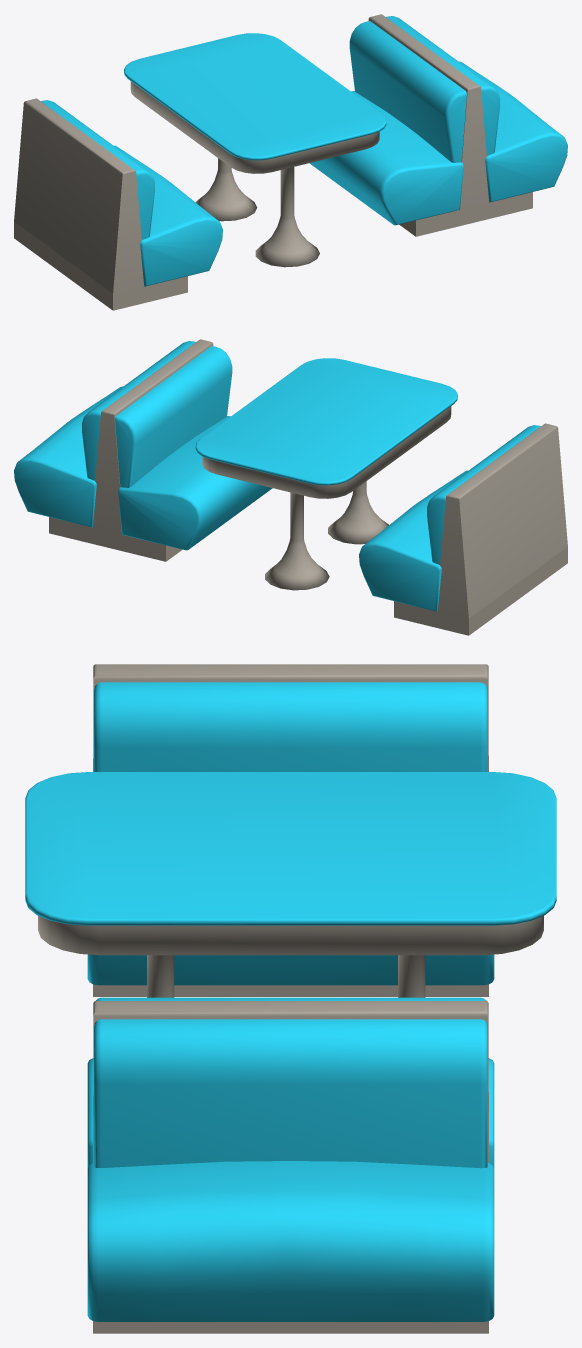
The model's file is table_set_1.fbx.
3 views of the same model, one above another, from view 1: azimuth 30°, elevation 25°; view 2: azimuth 150°, elevation 25°; view 3: azimuth 270°, elevation 25° (orthographic). The views are drawn at different scales.
Parts seen in each view (by area): view 1: COuch, TablePink_Rect, COuch1; view 2: COuch, TablePink_Rect, COuch1; view 3: COuch, TablePink_Rect, COuch1.
Boxes of the visible parts, x1,y1,x2,y2 form: COuch: (309, 14, 567, 236); TablePink_Rect: (124, 33, 386, 267); COuch1: (14, 98, 222, 310); COuch: (14, 339, 272, 561); TablePink_Rect: (195, 358, 457, 590); COuch1: (359, 423, 567, 635); COuch: (87, 997, 494, 1333); TablePink_Rect: (25, 772, 556, 997); COuch1: (87, 664, 494, 996).
Size of the model in its own units: 50.16 by 14.43 by 25.37.
